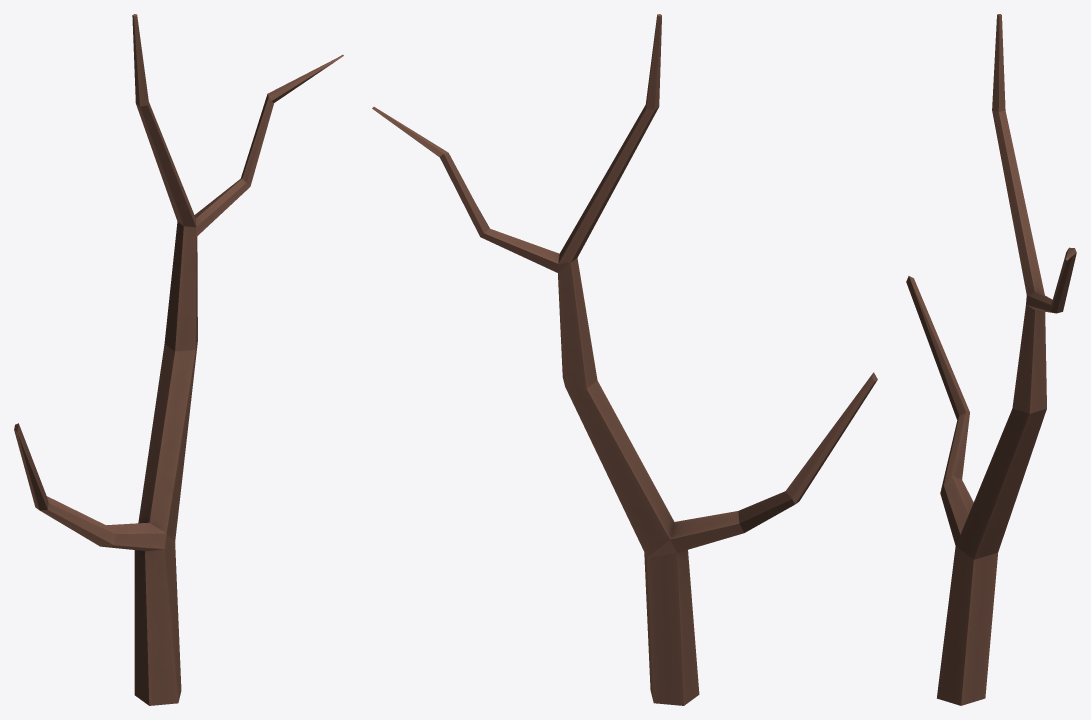
File: Tree_13.fbx
The picture shows the model from 3 angles, left to right: view 1: azimuth 30°, elevation 25°; view 2: azimuth 150°, elevation 25°; view 3: azimuth 270°, elevation 25°; orthographic projection. The views are drawn at different scales.
Visible parts, largest first — view 1: Tree_13; view 2: Tree_13; view 3: Tree_13.
Part boxes in pixels (left/top/right/bottom): Tree_13: left=14, top=14, right=343, bottom=705; Tree_13: left=372, top=14, right=877, bottom=705; Tree_13: left=906, top=14, right=1076, bottom=705.
Bounding box in the file's own units: 103 × 161 × 36.83.
